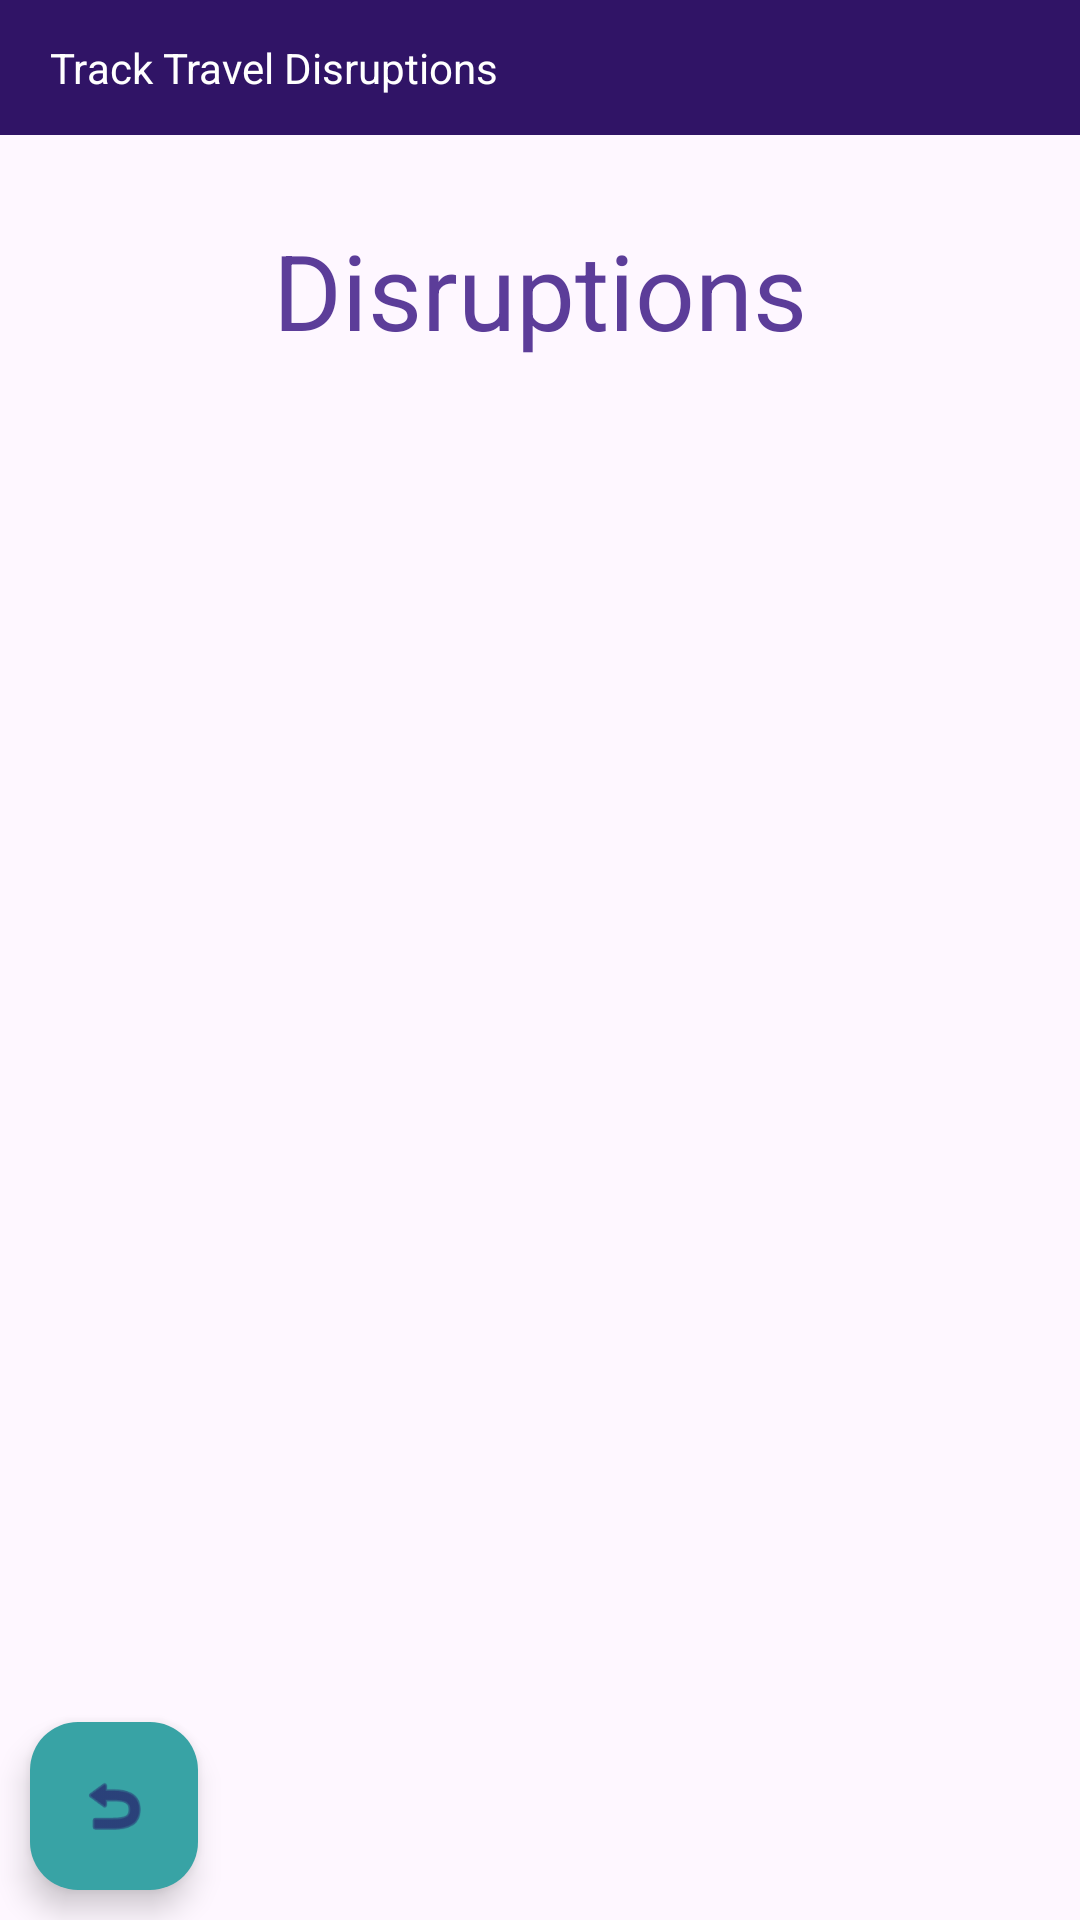

Icon click points for this 1080px x 1920px phone screenshot, format [x,y]:
Back: [114,1806]
